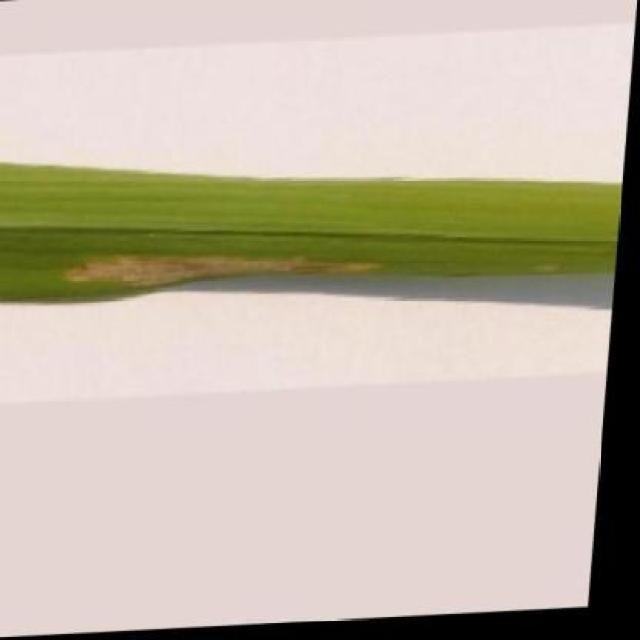Brown_Spot: (0, 131, 631, 317)
